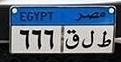6: (43, 28, 56, 50), (31, 28, 42, 51), (19, 28, 30, 50)
Taa: (96, 29, 111, 51)
laam: (81, 29, 95, 49)
qaaf: (64, 29, 80, 50)
